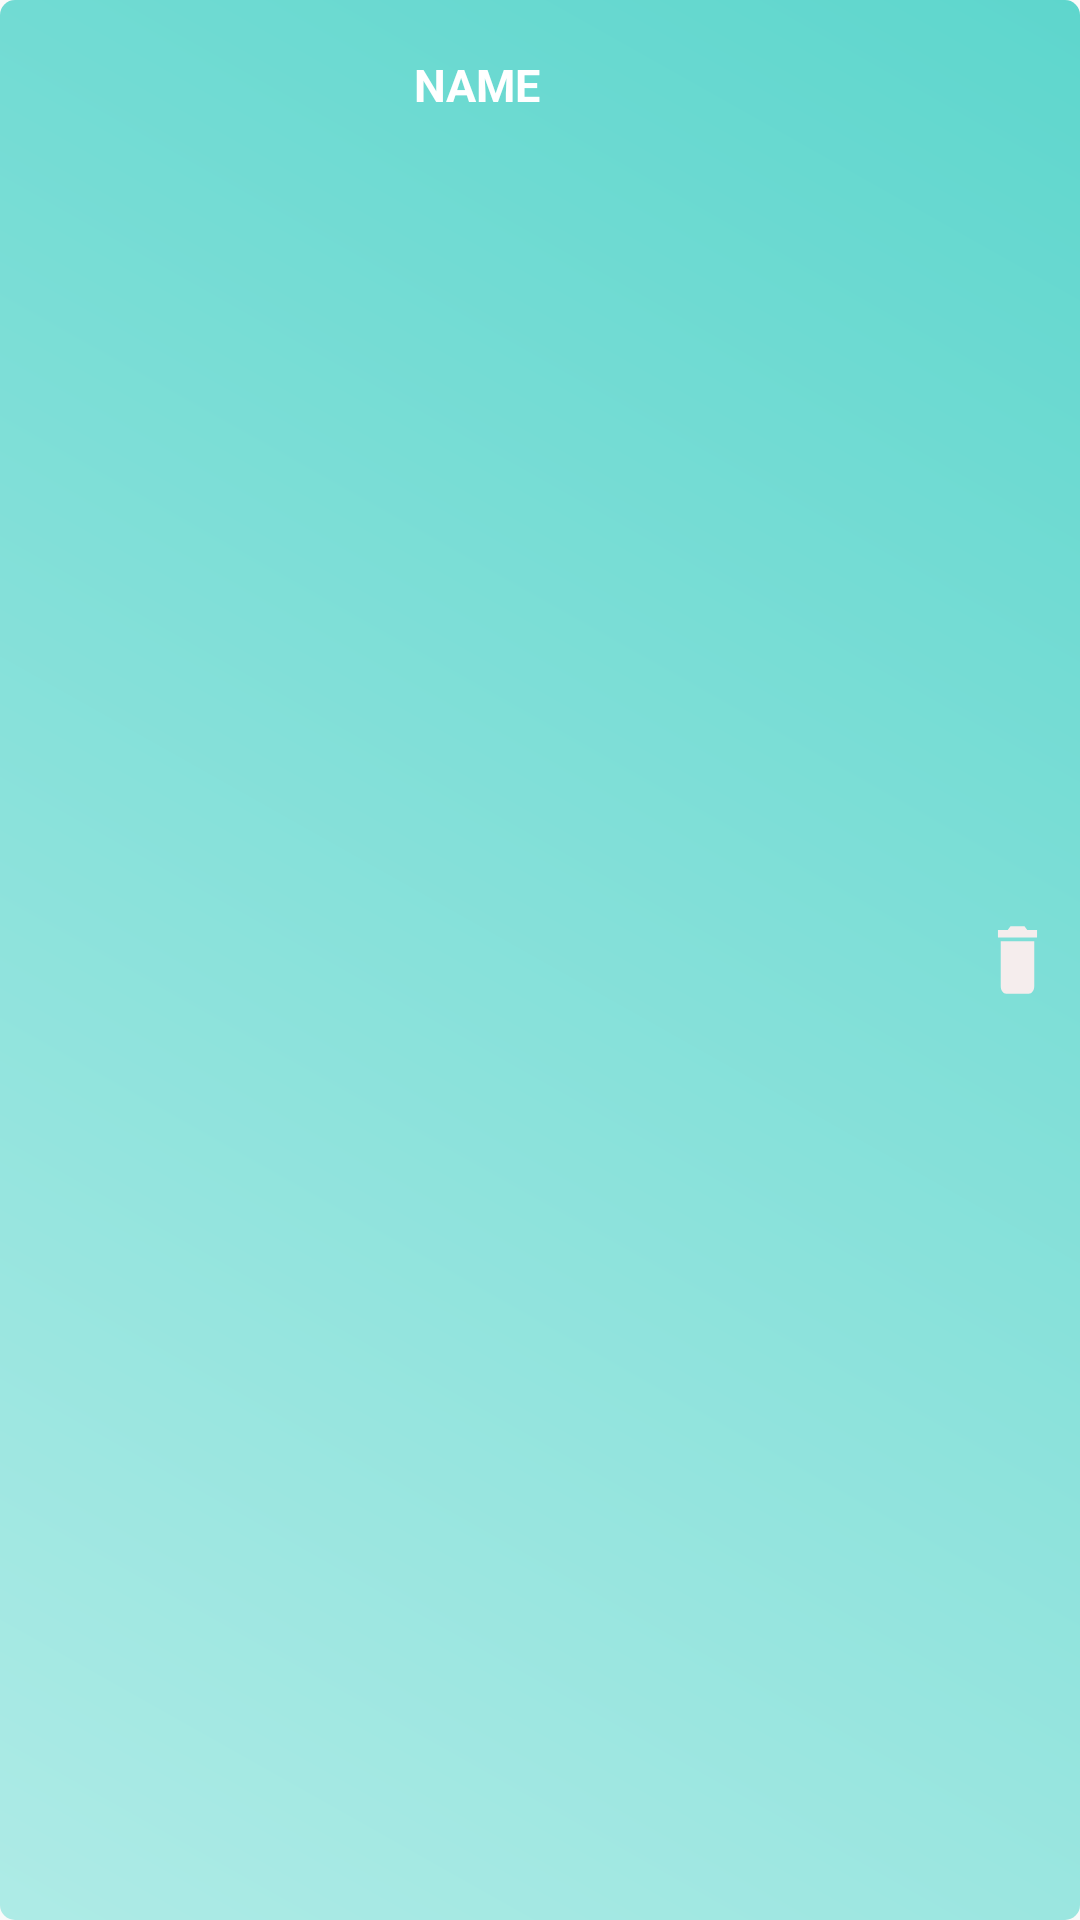

Where to tap for icons on this 1080px×1920px app screen, as [x,y]:
delete: [1017,960]
